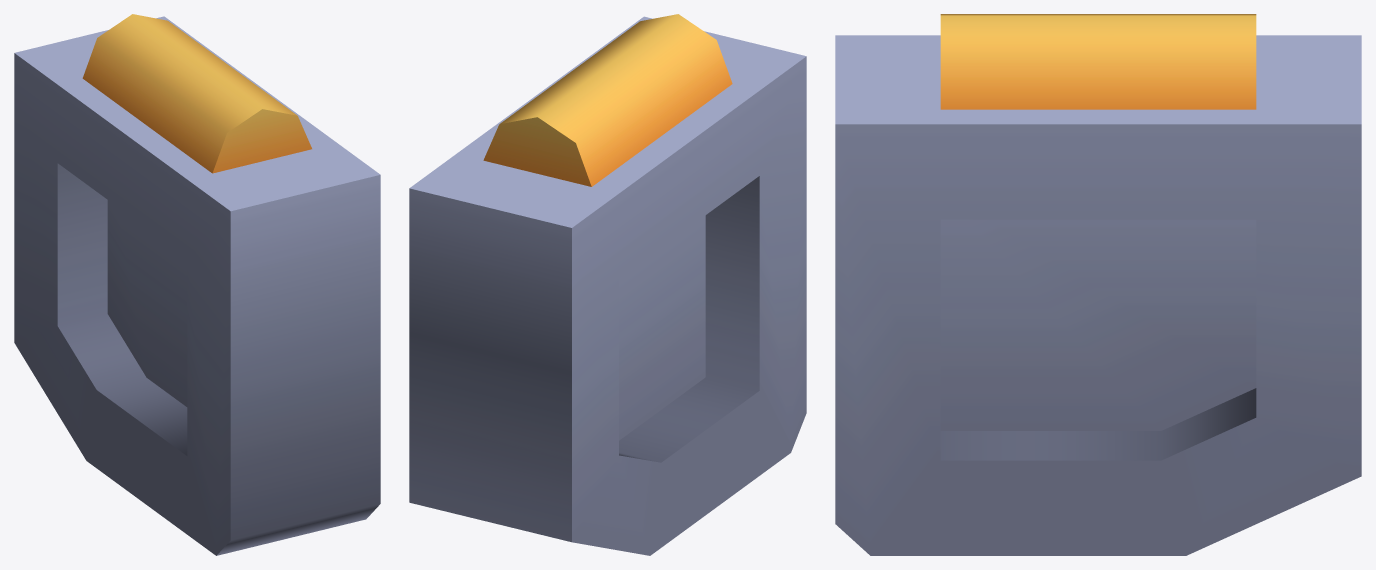
Rendered from kenney-blaster-clip-small.glb.
The picture shows the model from 3 angles, left to right: view 1: azimuth 30°, elevation 25°; view 2: azimuth 150°, elevation 25°; view 3: azimuth 270°, elevation 25°; orthographic projection. The views are drawn at different scales.
Visible parts, largest first — view 1: clip-small; view 2: clip-small; view 3: clip-small.
Part boxes in pixels (x1,y1,x2,y2): clip-small: [14, 14, 380, 555]; clip-small: [409, 14, 806, 555]; clip-small: [835, 14, 1361, 555].
Bounding box in the file's own units: 0.06 × 0.1558 × 0.15.
1 material, 1 textured.
